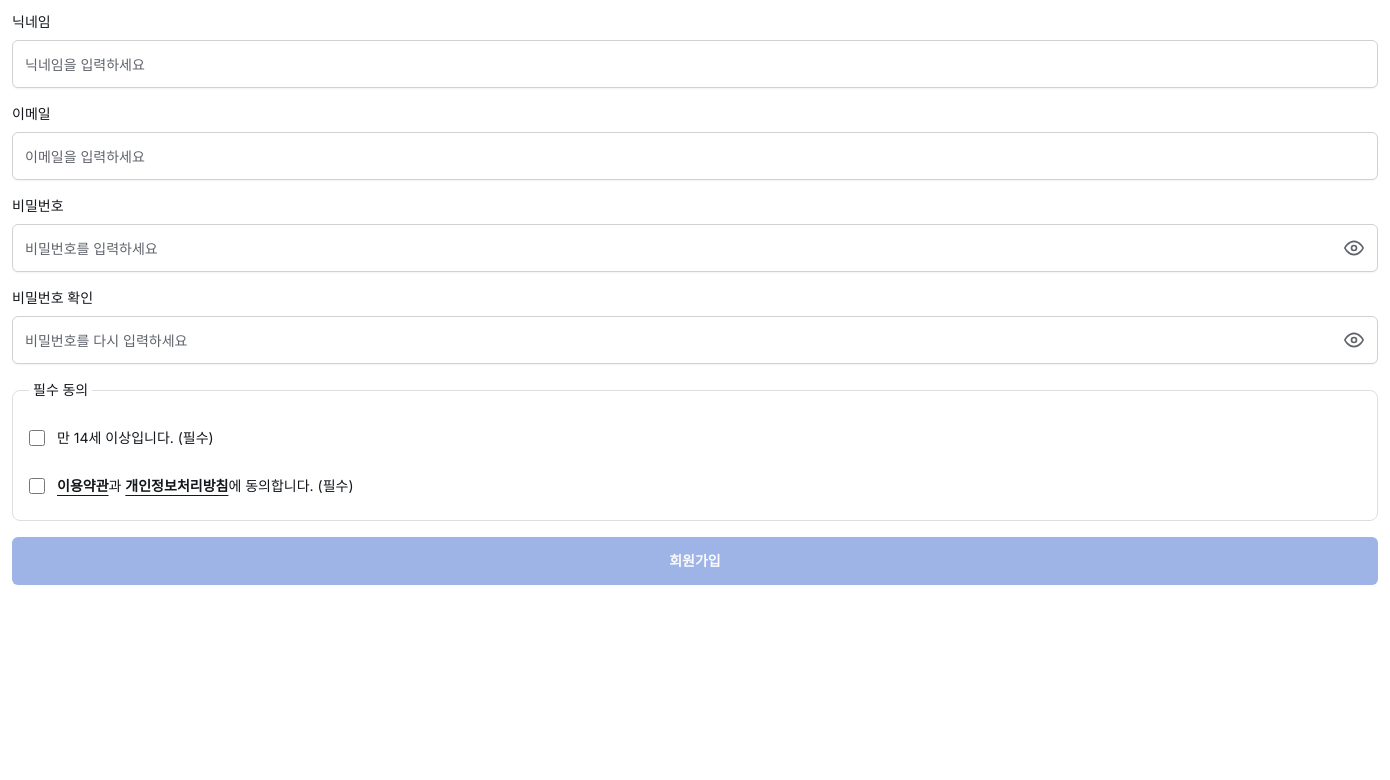
Test: SignUpForm 동의 › 두 필수 항목을 모두 체크해야 가입 버튼이 활성화된다
expect the button "회원가입" is disabled: met, box [12,537,1378,585]
Click the checkbox labelled "만 14세 이상입니다. (필수)". click: (37,438)
box: [29,430,45,446]
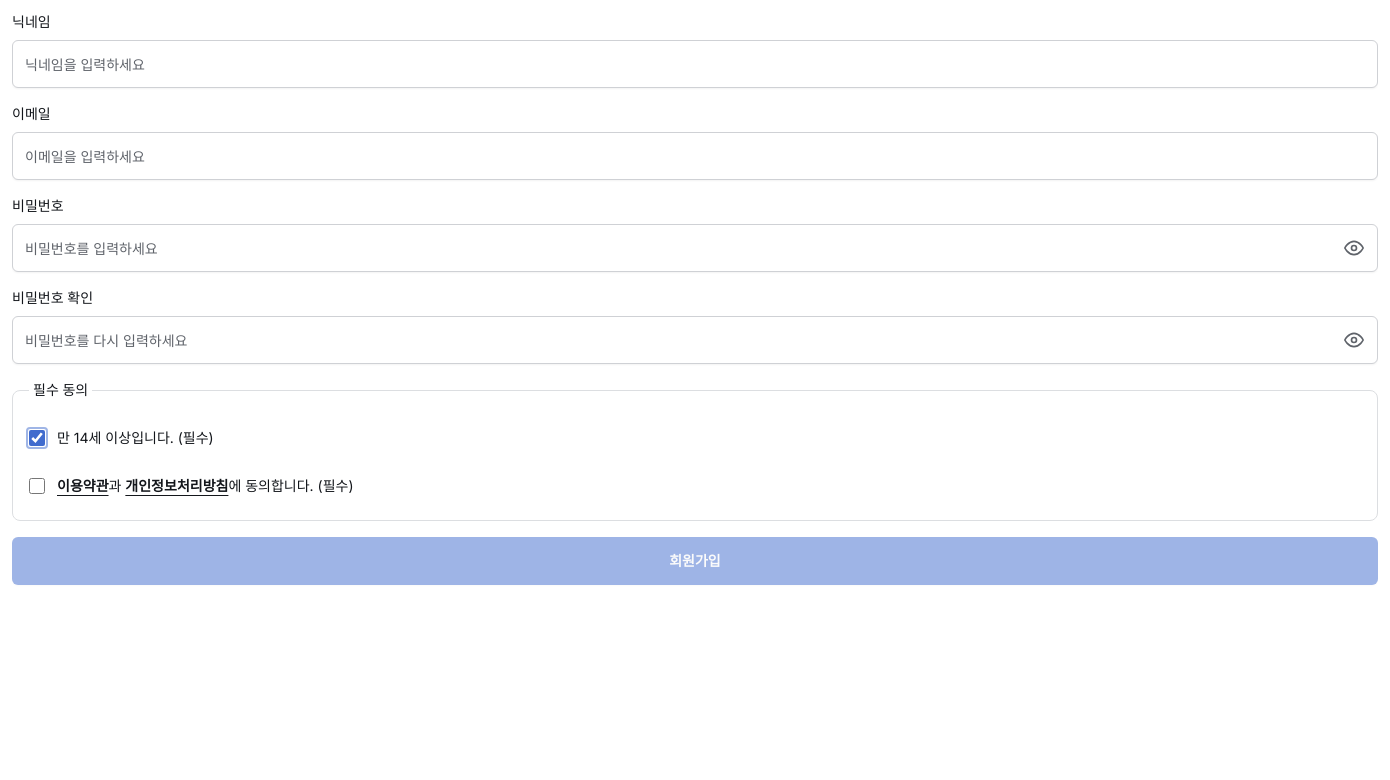
expect the button "회원가입" is disabled: met, box [12,537,1378,585]
Click the checkbox named "이용약관과 개인정보처리방침에 동의합니다". click: (37,486)
box: [29,478,45,494]
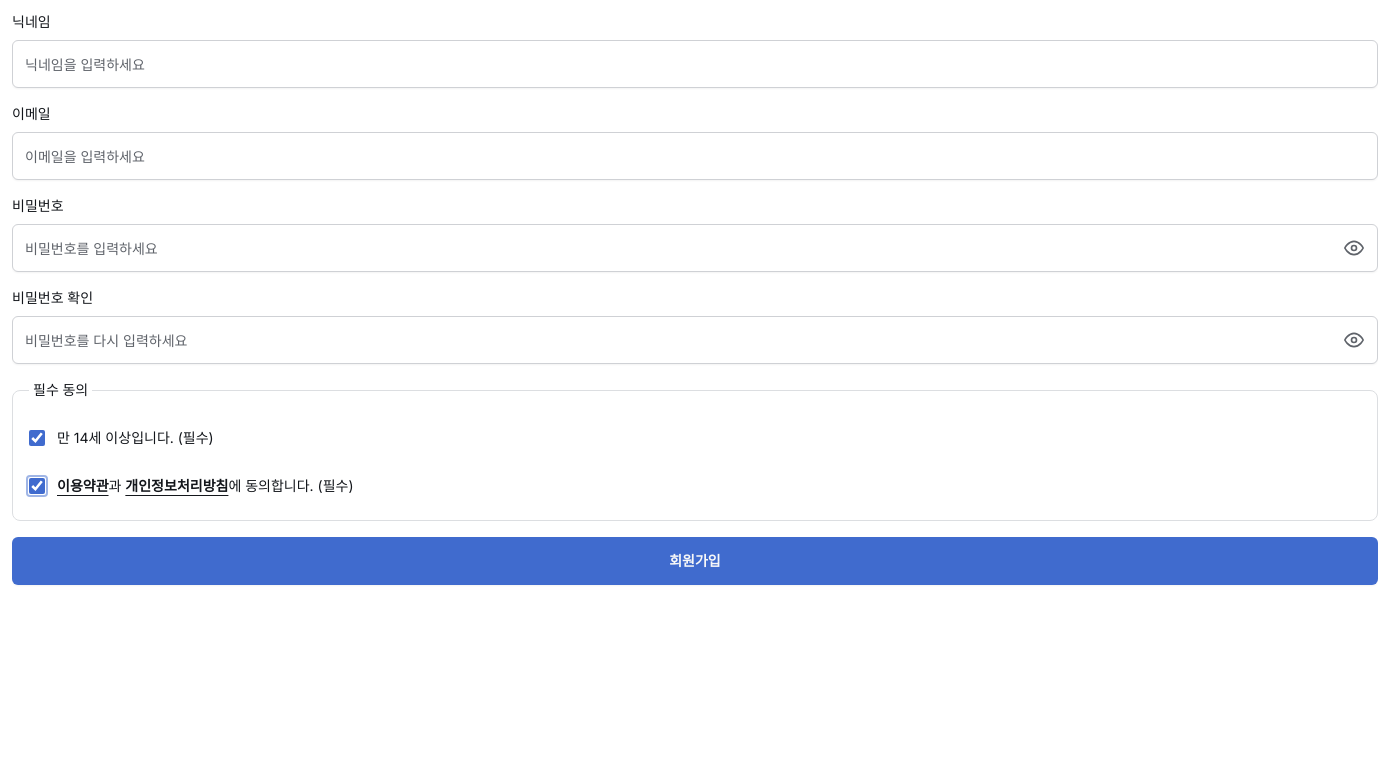
expect the button "회원가입" is enabled: met, box [12,537,1378,585]
